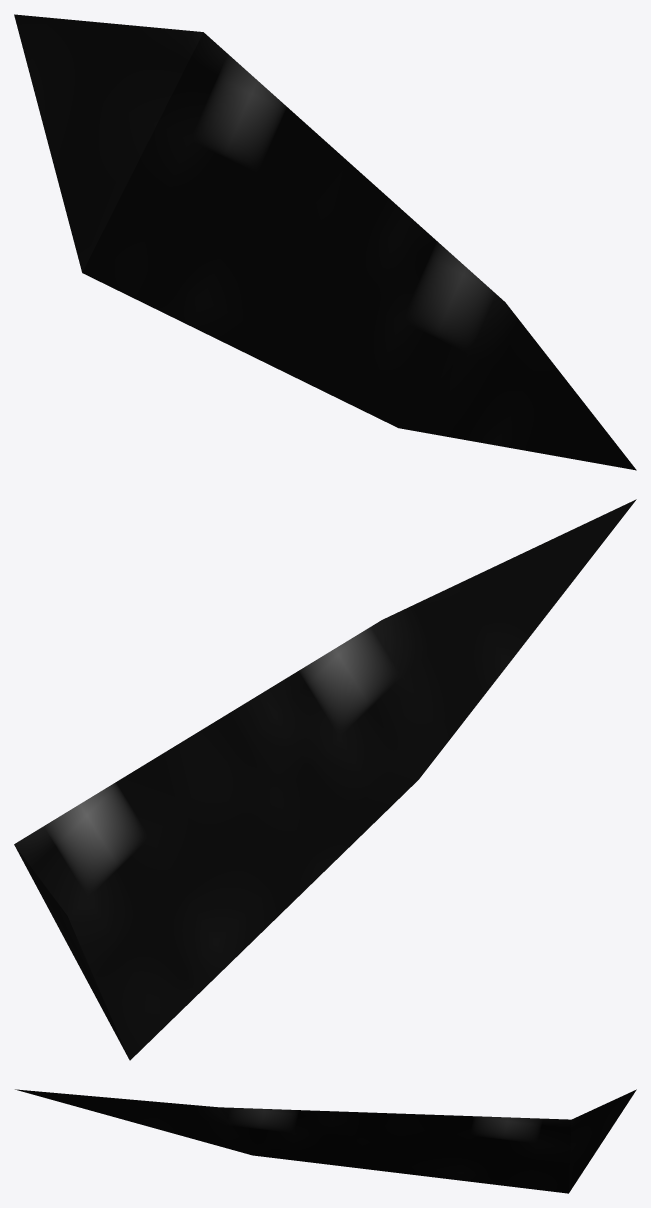
3 views of the same model, one above another, from view 1: azimuth 30°, elevation 25°; view 2: azimuth 150°, elevation 25°; view 3: azimuth 270°, elevation 25° (orthographic). The views are drawn at different scales.
Size of the model in its own units: 0.0134 by 0.0215 by 0.1164.
1 material, 1 textured.
